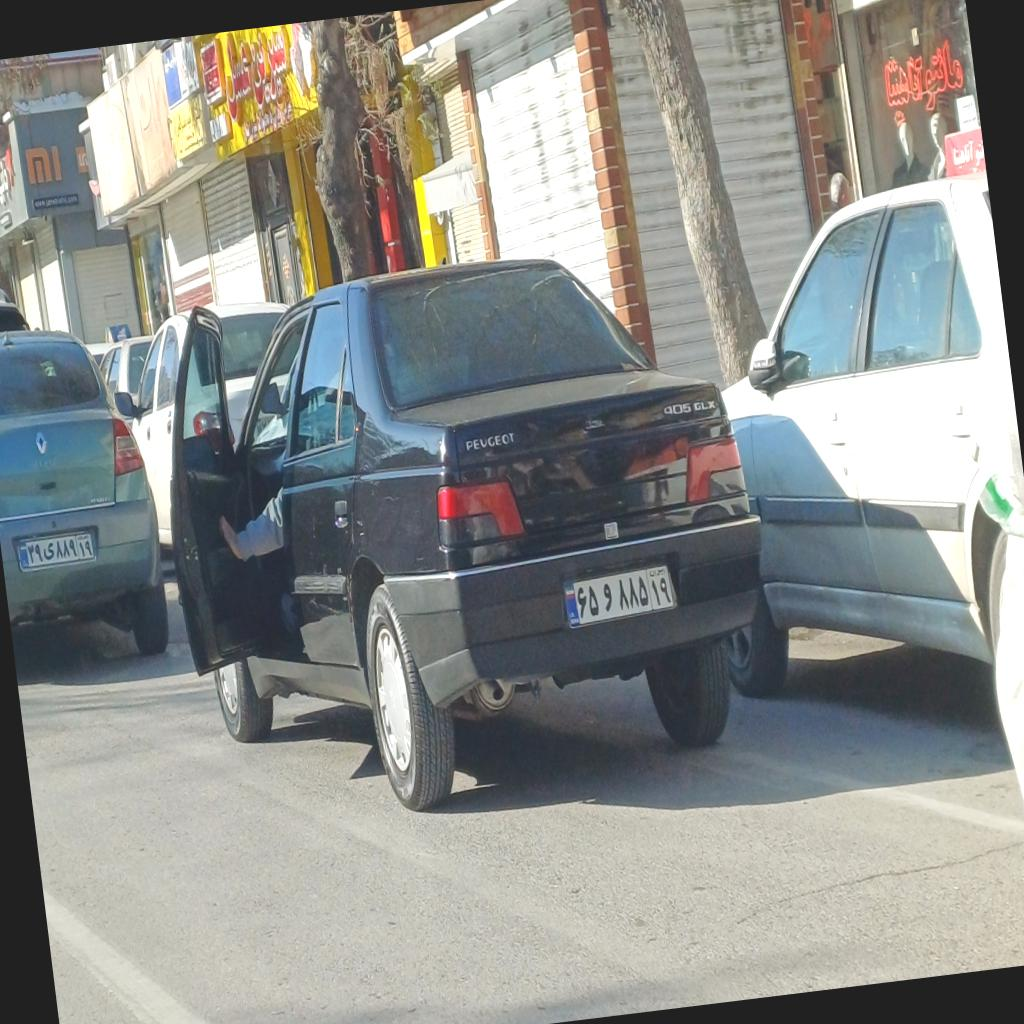Plates: (563, 562, 674, 629), (16, 531, 94, 569)
